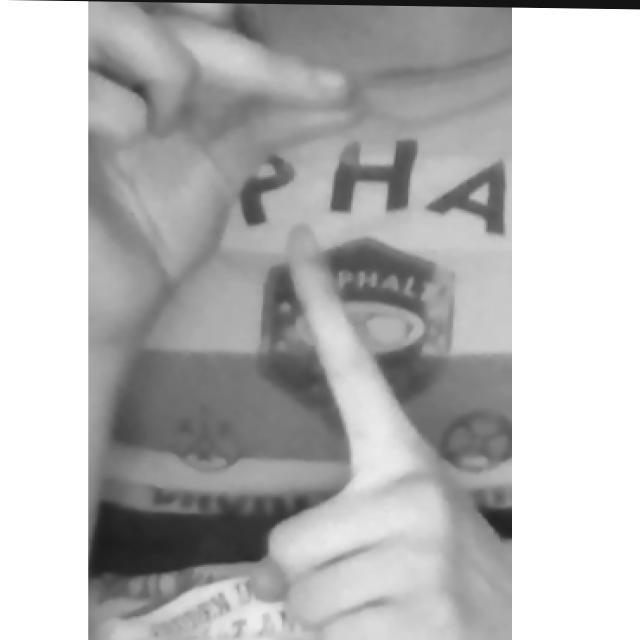I-: (86, 1, 508, 640)
